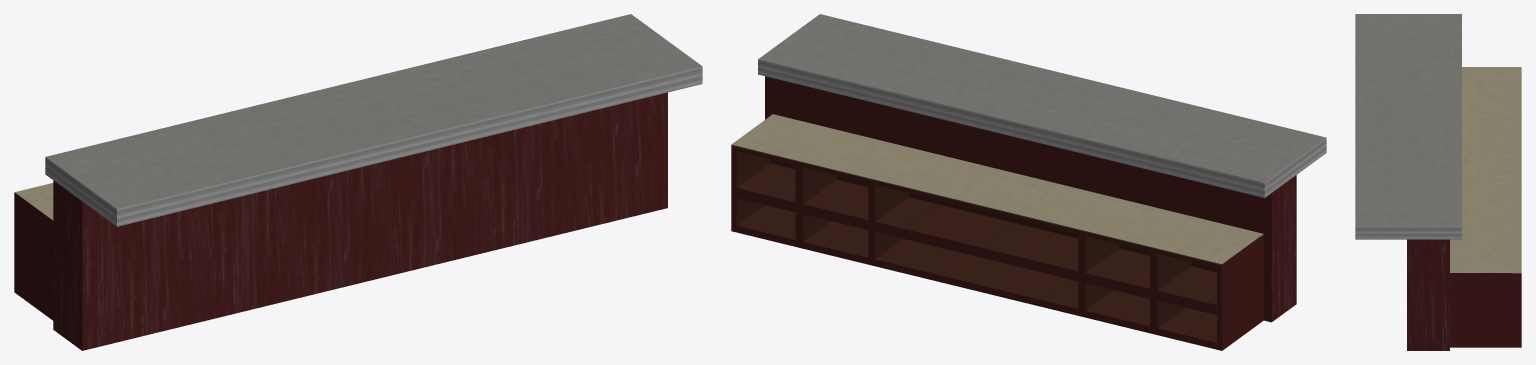
File: counter1 - testupload.fbx
3 views of the same model, side by side, from view 1: azimuth 30°, elevation 25°; view 2: azimuth 150°, elevation 25°; view 3: azimuth 270°, elevation 25° (orthographic). The views are drawn at different scales.
Parts seen in each view (by area): view 1: pCube1; view 2: pCube1; view 3: pCube1.
Part boxes in pixels (box(x1,y1,x2,y2)): pCube1: box(14, 14, 702, 350); pCube1: box(731, 14, 1326, 350); pCube1: box(1355, 14, 1521, 350).
Size of the model in its own units: 21.76 by 5.93 by 7.18.
Materials: 1 (1 with a texture image).
